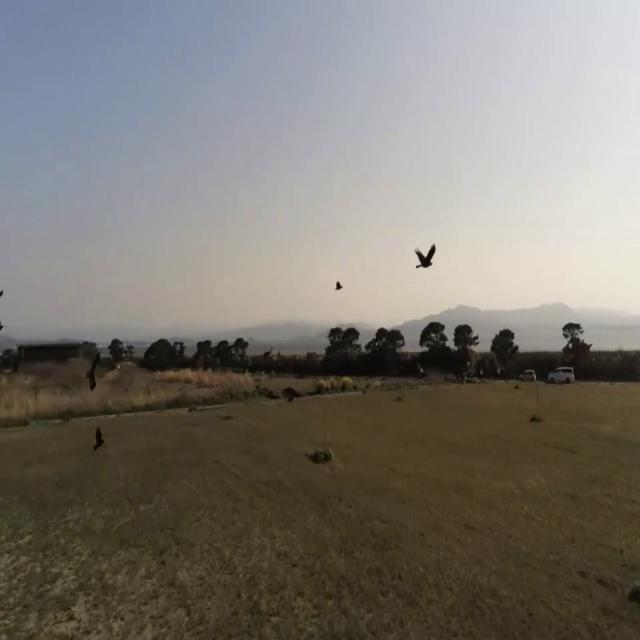bird: (413, 235, 437, 278), (334, 274, 343, 296), (0, 282, 4, 306), (0, 303, 3, 335)
